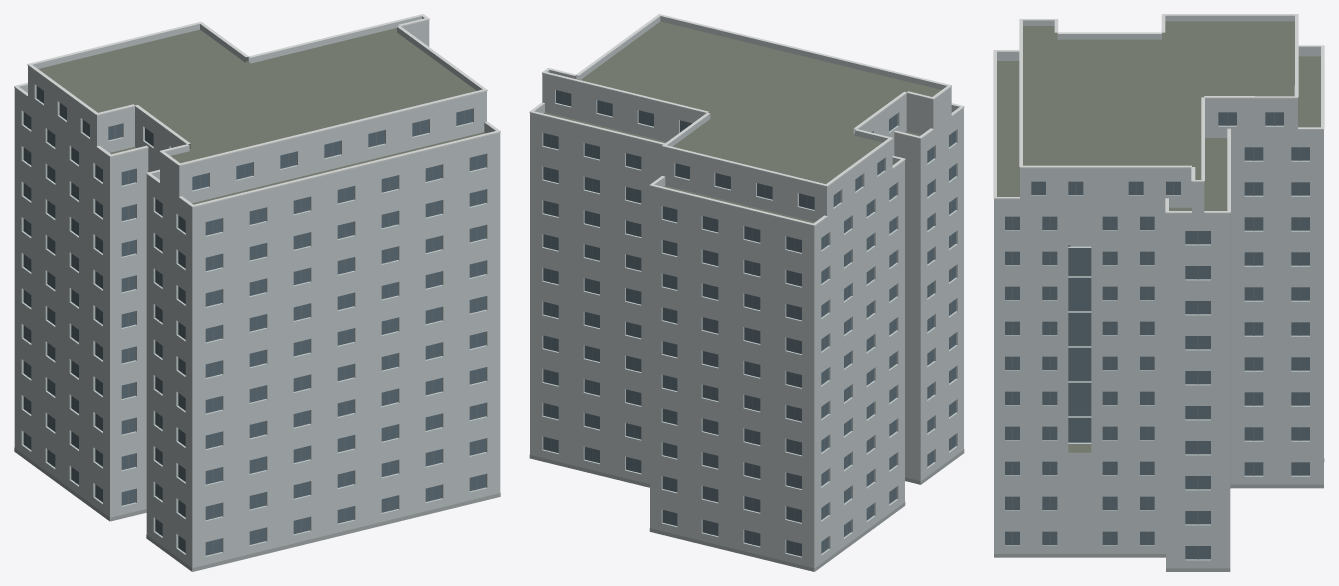
3 views of the same model, side by side, from view 1: azimuth 30°, elevation 25°; view 2: azimuth 150°, elevation 25°; view 3: azimuth 270°, elevation 25° (orthographic). The views are drawn at different scales.
Parts seen in each view (by area): view 1: ict__wall, ict__roof, ict__glass, ict__parapet, ict__trim, ict__frame, ict__base; view 2: ict__wall, ict__roof, ict__glass, ict__parapet, ict__trim, ict__frame, ict__base; view 3: ict__wall, ict__roof, ict__glass, ict__trim, ict__parapet, ict__frame, ict__base.
Boxes of the visible parts, x1=… form: ict__wall: x1=14, y1=24, x2=500, y2=571; ict__roof: x1=38, y1=28, x2=485, y2=204; ict__glass: x1=23, y1=86, x2=485, y2=555; ict__parapet: x1=14, y1=16, x2=500, y2=215; ict__trim: x1=14, y1=14, x2=500, y2=207; ict__frame: x1=27, y1=89, x2=477, y2=553; ict__base: x1=14, y1=447, x2=500, y2=571; ict__wall: x1=530, y1=78, x2=963, y2=571; ict__roof: x1=543, y1=21, x2=941, y2=223; ict__glass: x1=543, y1=90, x2=955, y2=556; ict__parapet: x1=530, y1=16, x2=963, y2=234; ict__trim: x1=529, y1=14, x2=964, y2=226; ict__frame: x1=551, y1=92, x2=951, y2=554; ict__base: x1=529, y1=449, x2=964, y2=571; ict__wall: x1=994, y1=103, x2=1323, y2=568; ict__roof: x1=997, y1=21, x2=1320, y2=452; ict__glass: x1=1005, y1=112, x2=1309, y2=559; ict__trim: x1=993, y1=14, x2=1324, y2=213; ict__parapet: x1=994, y1=15, x2=1323, y2=221; ict__frame: x1=1012, y1=112, x2=1300, y2=559; ict__base: x1=994, y1=458, x2=1324, y2=571.
Bounding box in the file's own units: 37.96 × 41.3 × 31.76.
